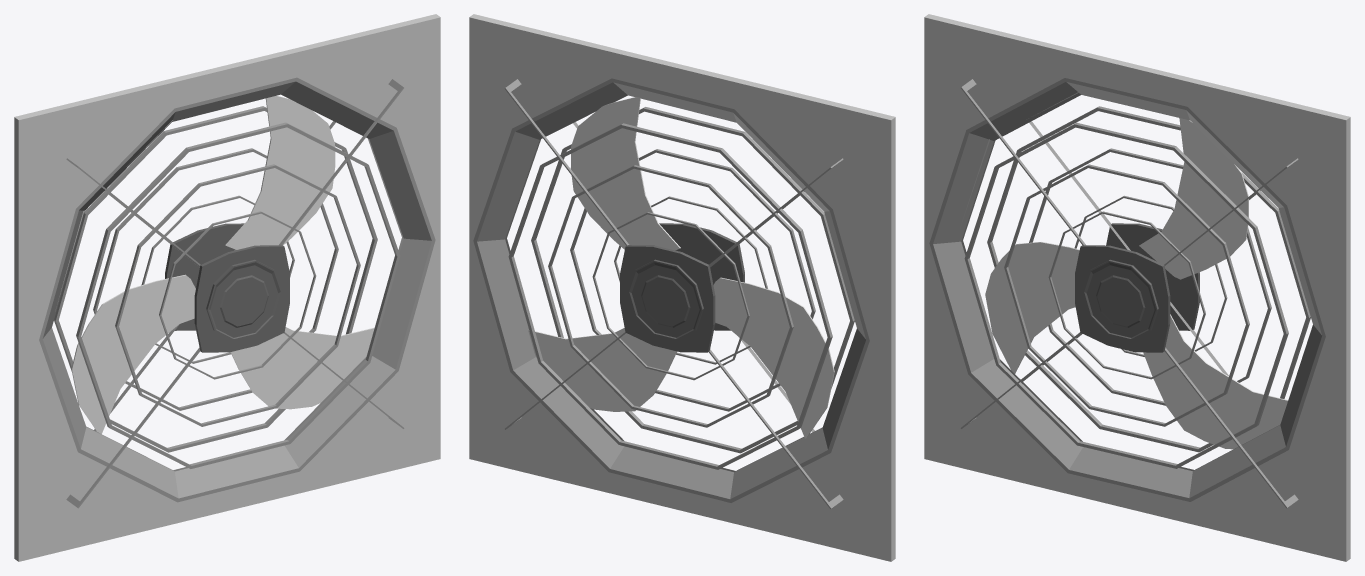
File: fan_0528.fbx
3 views of the same model, side by side, from view 1: azimuth 30°, elevation 25°; view 2: azimuth 150°, elevation 25°; view 3: azimuth 330°, elevation 25° (orthographic).
Visible parts, largest first — view 1: Box002; view 2: Box002; view 3: Box002.
Part boxes in pixels (x1=…): Box002: x1=14, y1=14, x2=440, y2=561; Box002: x1=469, y1=14, x2=895, y2=561; Box002: x1=924, y1=14, x2=1350, y2=561.
Size of the model in its own units: 112 by 112 by 15.97.
1 material, 1 textured.
